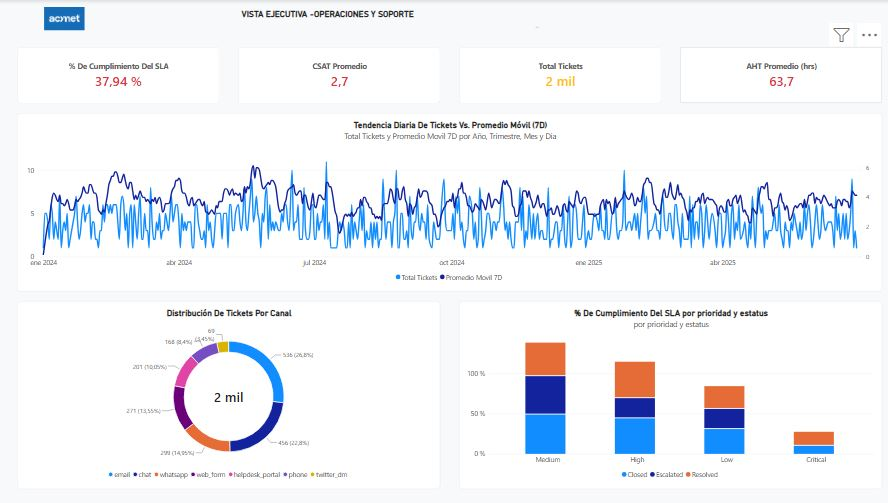

The page's visual inventory and layout, read from the dashboard file:
{"tool":"powerbi","page":{"name":"Página 1","canvas":[1920,1080],"ordinal":0},"visuals":[{"type":"textbox","title":"VISTA EJECUTIVA -OPERACIONES Y SOPORTE","box":[250,20,900,40],"z":2000},{"type":"cardVisual","fields":{"Data":["DS_DAP_P1_clean(1).CSAT Promedio"]},"box":[510,100,430,120],"z":3000},{"type":"cardVisual","fields":{"Data":["DS_DAP_P1_clean(1).SLA Compliance %"]},"box":[40,100,430,120],"z":4000},{"type":"cardVisual","fields":{"Data":["DS_DAP_P1_clean(1).AHT Promedio (hrs)"]},"box":[1450,100,430,120],"z":5000},{"type":"cardVisual","fields":{"Data":["DS_DAP_P1_clean(1).Total Tickets"]},"box":[980,100,430,120],"z":6000},{"type":"lineChart","title":"Tendencia Diaria De Tickets Vs. Promedio Móvil (7D)","fields":{"Category":["DS_DAP_P1_clean(1).created_at.Variación.Jerarquía de fechas.Año","DS_DAP_P1_clean(1).created_at.Variación.Jerarquía de fechas.Trimestre","DS_DAP_P1_clean(1).created_at.Variación.Jerarquía de fechas.Mes","DS_DAP_P1_clean(1).created_at.Variación.Jerarquía de fechas.Día"],"Y":["DS_DAP_P1_clean(1).Total Tickets"],"Y2":["DS_DAP_P1_clean(1).Promedio Movil 7D"]},"box":[40,240,1840,380],"z":7000},{"type":"donutChart","title":"Distribución De Tickets Por Canal","fields":{"Category":["DS_DAP_P1_clean(1).channel"],"Y":["CountNonNull(DS_DAP_P1_clean(1).ticket_id)"]},"box":[40,640,900,400],"z":8000},{"type":"columnChart","title":"% De Cumplimiento Del SLA por prioridad y estatus","fields":{"Category":["DS_DAP_P1_clean(1).priority"],"Series":["DS_DAP_P1_clean(1).status"],"Y":["DS_DAP_P1_clean(1).% De Cumplimiento Del SLA"]},"box":[980,640,900,400],"z":9000},{"type":"image","box":[50,15,180,50],"z":9001}]}

Visuals, with their boxes in screenshot pixels (x1, y1, x2, y2), scaled from the page's 1920x1080 canvas onto the 888x503 screenshot:
"VISTA EJECUTIVA -OPERACIONES Y SOPORTE" textbox: (x1=116, y1=9, x2=532, y2=28)
cardVisual - DS_DAP_P1_clean(1).CSAT Promedio: (x1=236, y1=47, x2=435, y2=102)
cardVisual - DS_DAP_P1_clean(1).SLA Compliance %: (x1=18, y1=47, x2=217, y2=102)
cardVisual - DS_DAP_P1_clean(1).AHT Promedio (hrs): (x1=671, y1=47, x2=870, y2=102)
cardVisual - DS_DAP_P1_clean(1).Total Tickets: (x1=453, y1=47, x2=652, y2=102)
"Tendencia Diaria De Tickets Vs. Promedio Móvil (7D)" lineChart: (x1=18, y1=112, x2=870, y2=289)
"Distribución De Tickets Por Canal" donutChart: (x1=18, y1=298, x2=435, y2=484)
"% De Cumplimiento Del SLA por prioridad y estatus" columnChart: (x1=453, y1=298, x2=870, y2=484)
image: (x1=23, y1=7, x2=106, y2=30)
